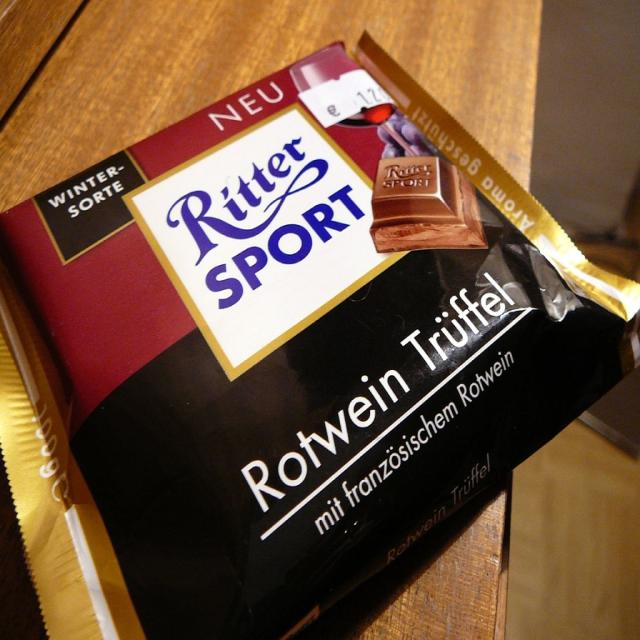rittersport: (128, 106, 418, 376)
